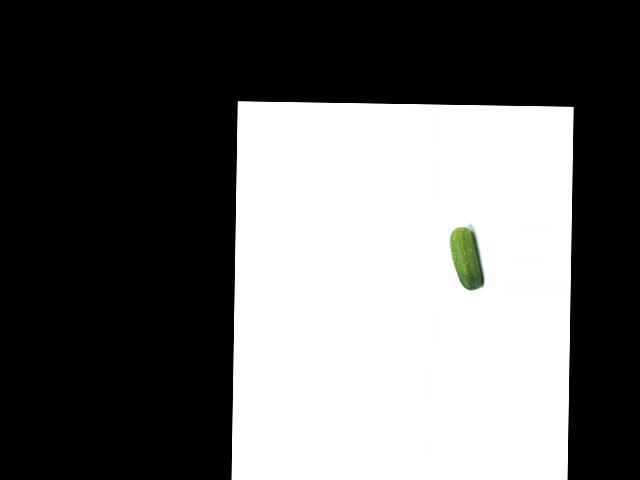cucumber: (449, 227, 483, 290)
